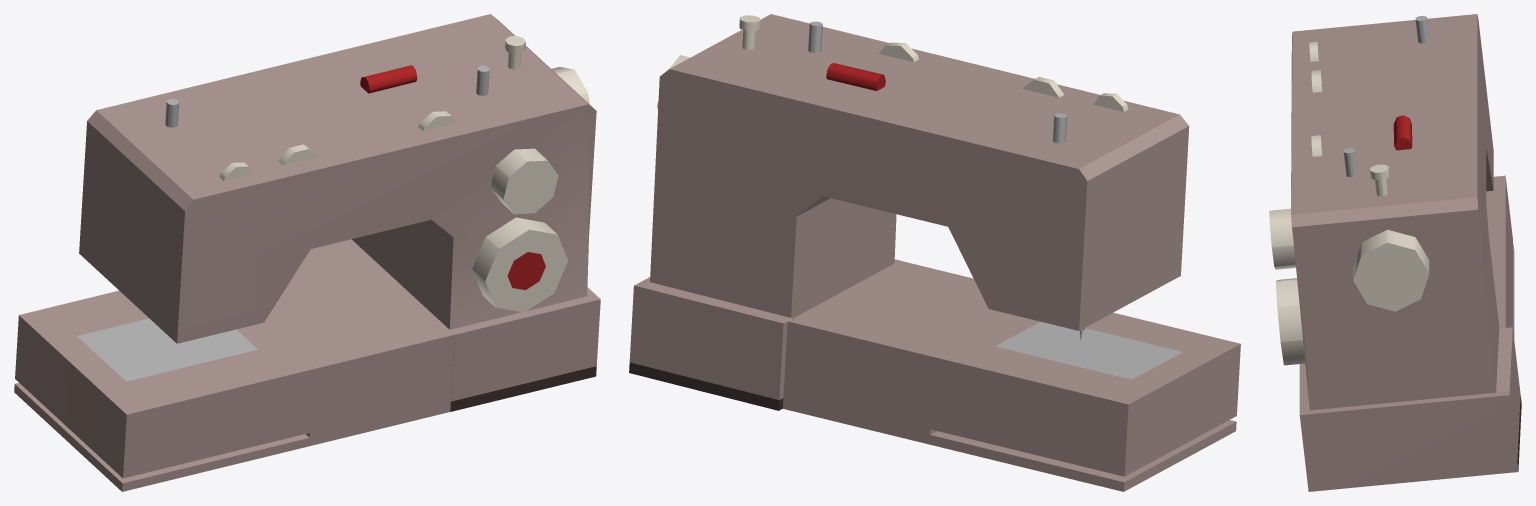
File: maquina02222222.fbx
The picture shows the model from 3 angles, left to right: view 1: azimuth 30°, elevation 25°; view 2: azimuth 150°, elevation 25°; view 3: azimuth 270°, elevation 25°; orthographic projection. The views are drawn at different scales.
Parts seen in each view (by area): view 1: Cube; view 2: Cube; view 3: Cube.
Part boxes in pixels (x1=…): Cube: x1=14, y1=14, x2=600, y2=491; Cube: x1=629, y1=14, x2=1240, y2=491; Cube: x1=1269, y1=14, x2=1521, y2=491.
Bounding box in the file's own units: 7.49 × 4.65 × 3.49.
